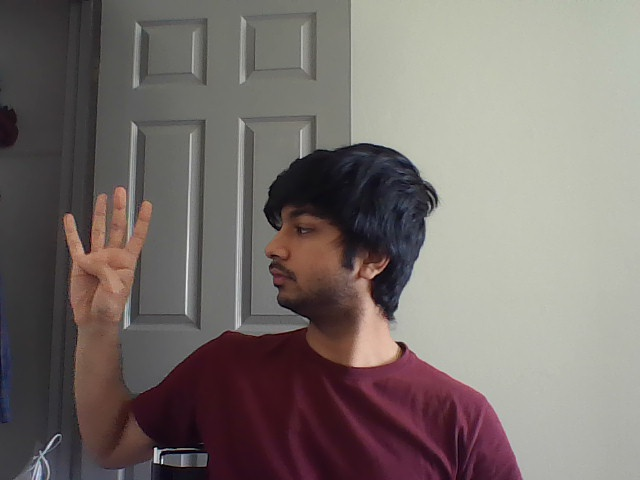four: (58, 185, 157, 260)
